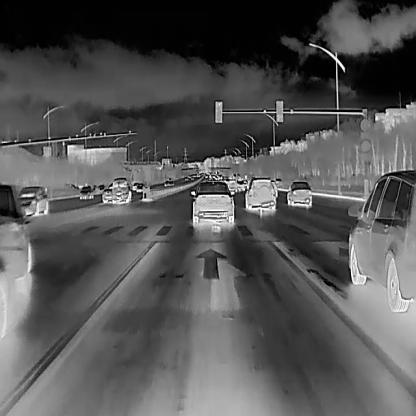car: (347, 167, 416, 312), (190, 179, 236, 225), (243, 175, 276, 213), (14, 184, 49, 217), (101, 178, 132, 205), (285, 180, 312, 207), (79, 184, 94, 200), (135, 181, 146, 193), (234, 180, 244, 193), (226, 180, 236, 190), (131, 180, 139, 191), (167, 178, 176, 187), (273, 176, 281, 186)
crosswalk: (69, 222, 342, 250)
